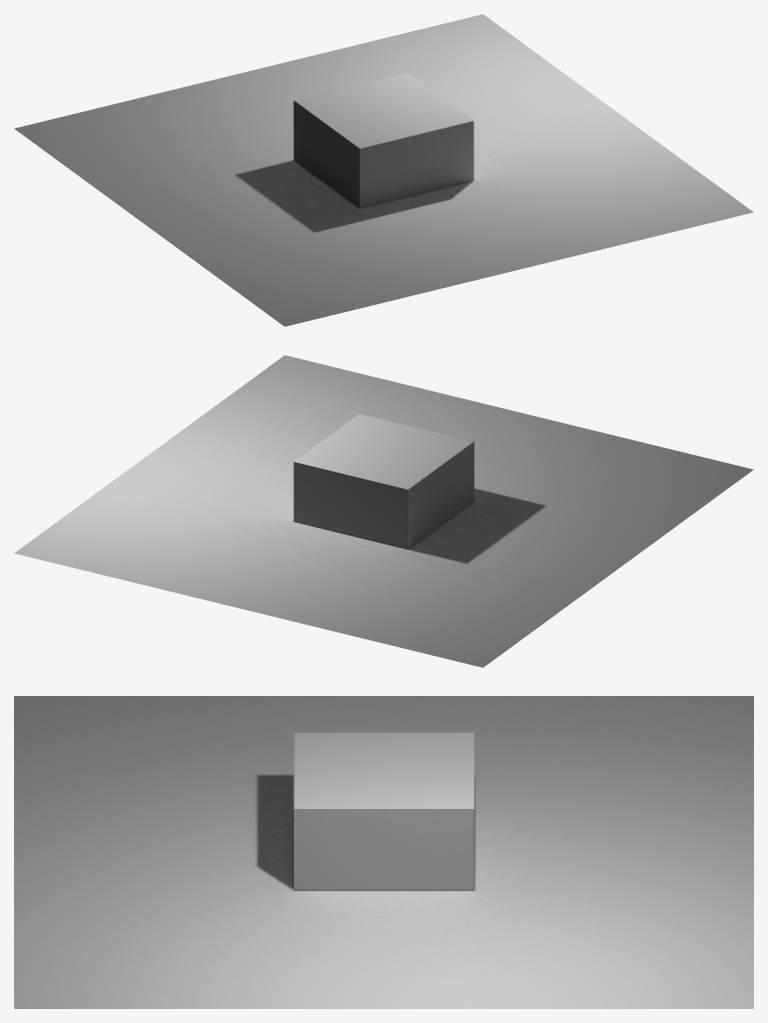
The model's file is simple.glb.
The picture shows the model from 3 angles, top to bottom: view 1: azimuth 30°, elevation 25°; view 2: azimuth 150°, elevation 25°; view 3: azimuth 270°, elevation 25°; orthographic projection. The views are drawn at different scales.
Parts seen in each view (by area): view 1: Plane, Cube; view 2: Plane, Cube; view 3: Plane, Cube.
Boxes of the visible parts, x1,y1,x2,y2 form: Plane: (14,14,753,326); Cube: (293,72,474,208); Plane: (14,355,753,667); Cube: (293,413,474,549); Plane: (14,696,753,1008); Cube: (293,732,474,890).
Size of the model in its own units: 8.2 by 2 by 8.2.
2 materials, 2 textured.
